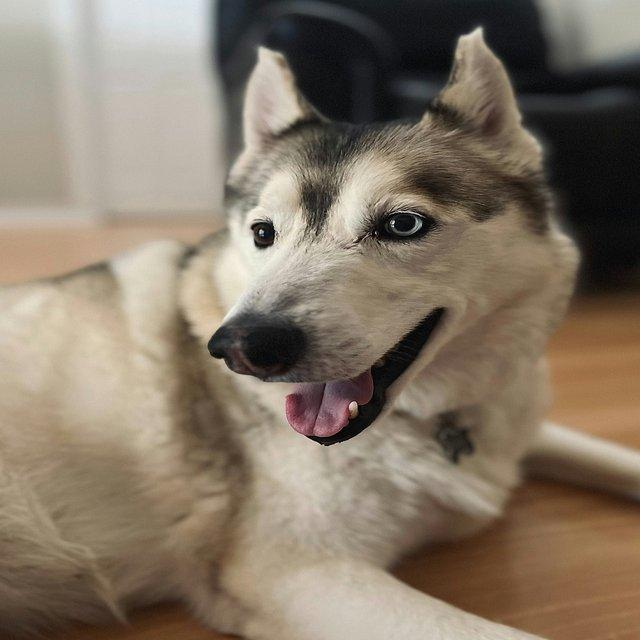husky: (0, 25, 635, 638)
